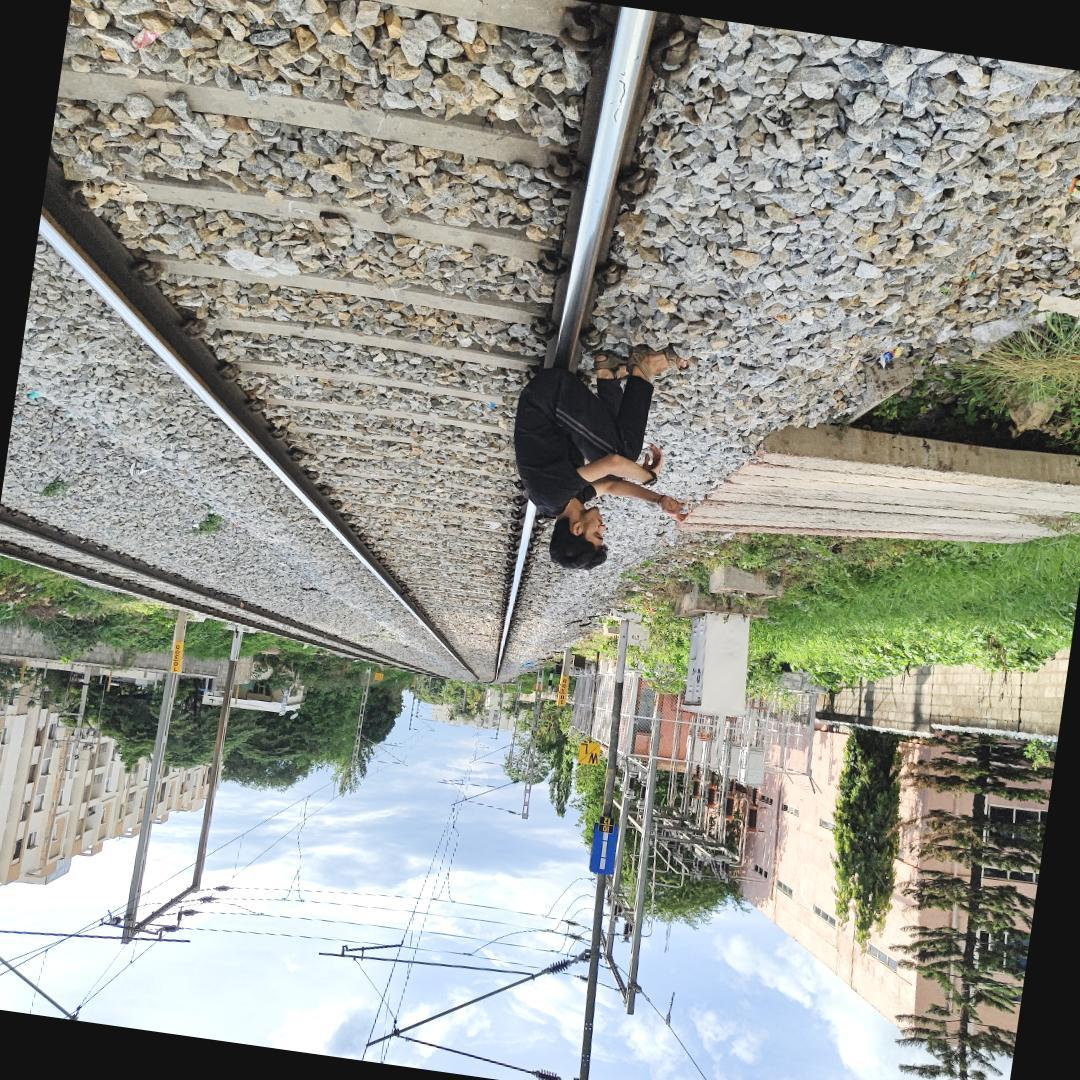sitting: (499, 333, 707, 569)
